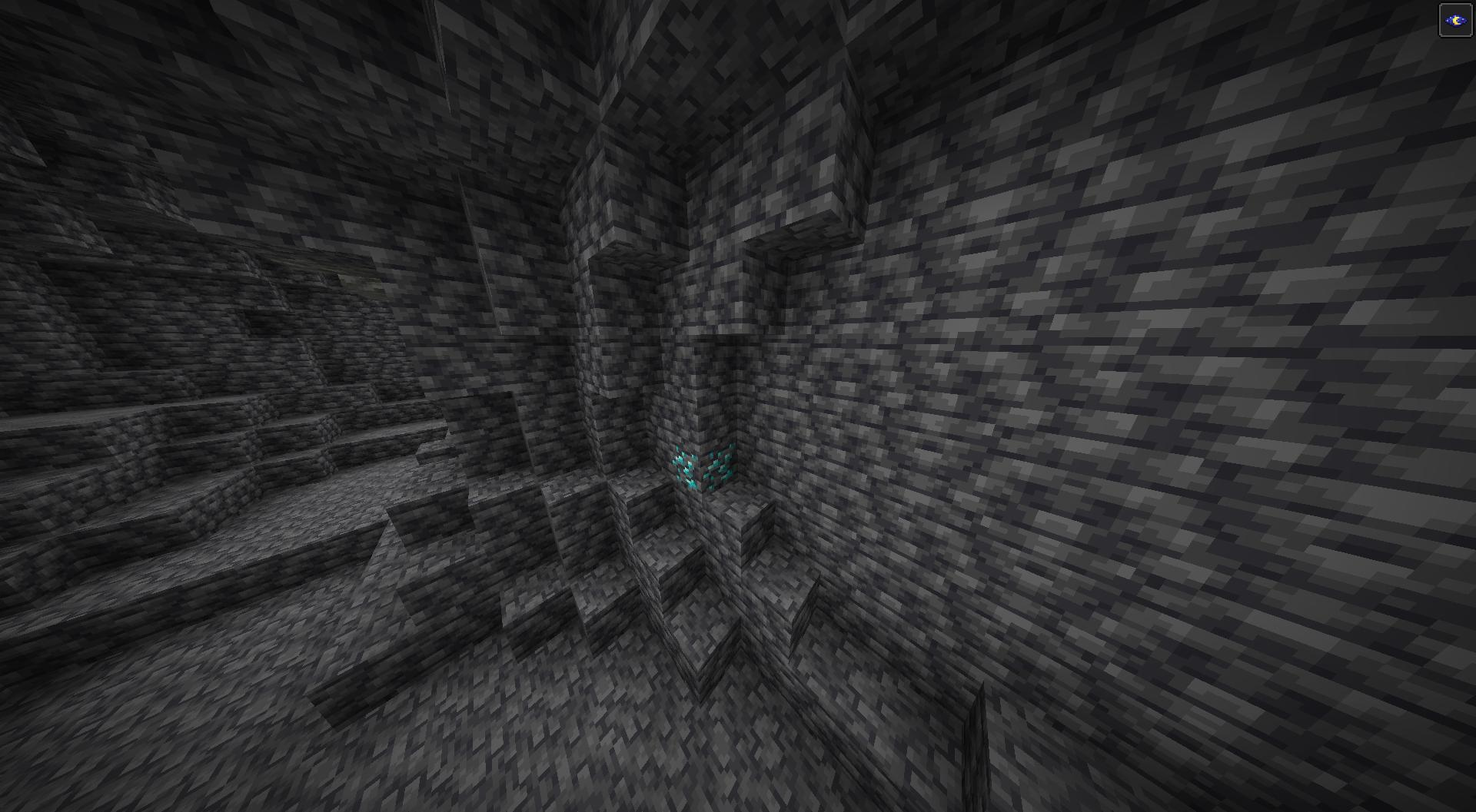diamond ore: (672, 445, 729, 493)
